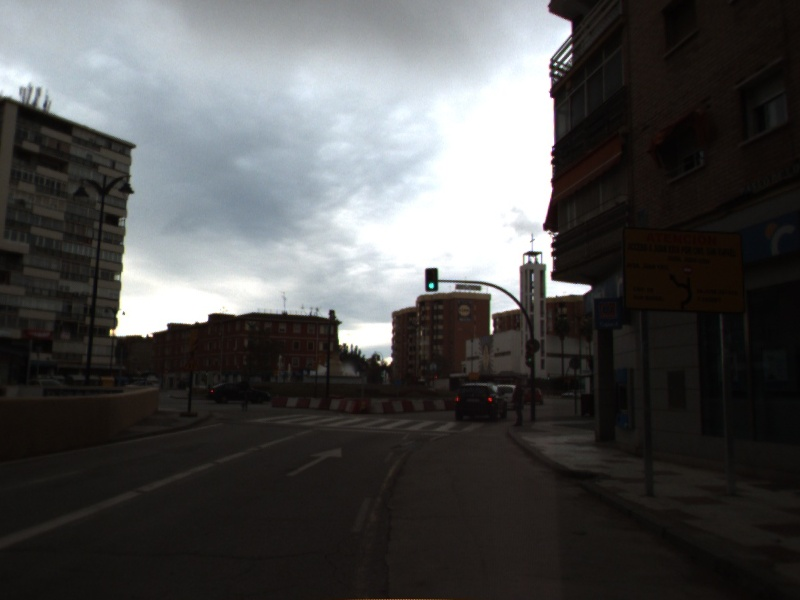STRAIGHT: (283, 445, 345, 478)
